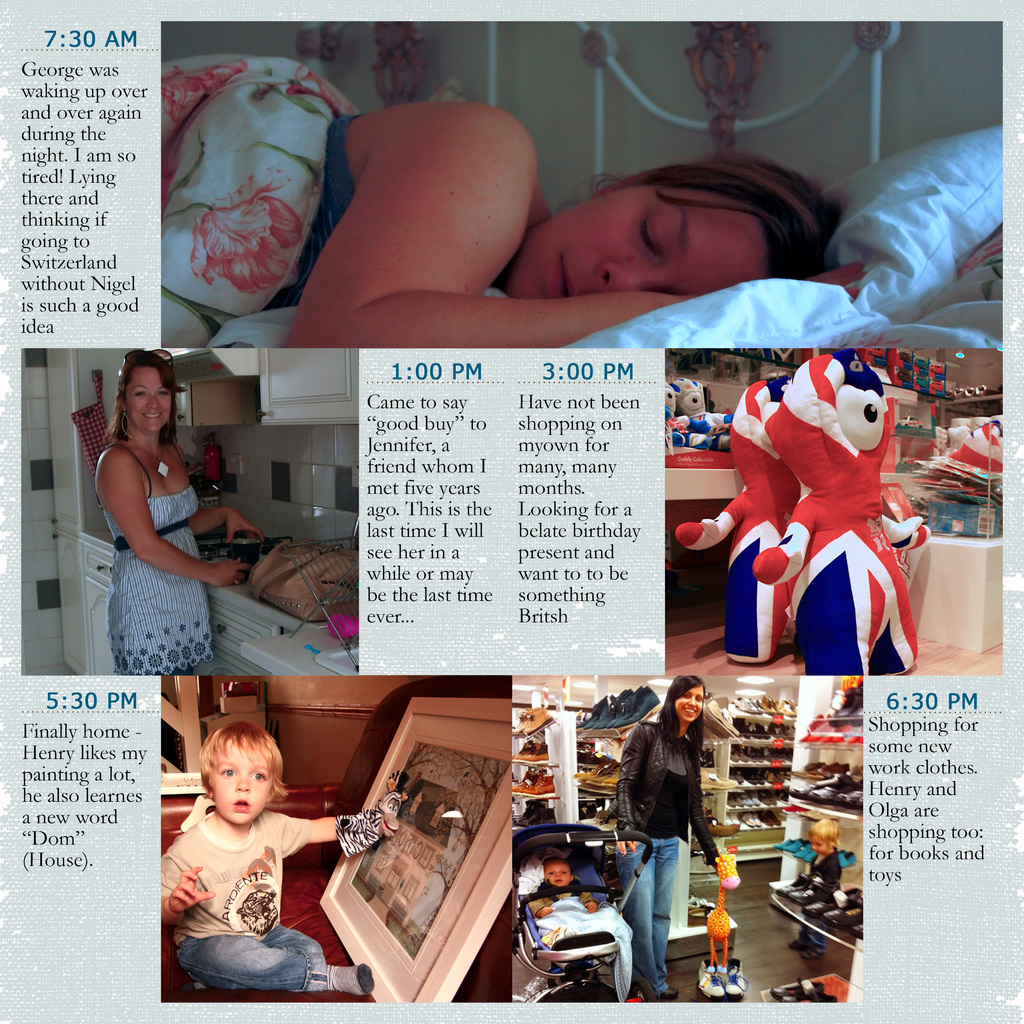person: (91, 348, 267, 672)
